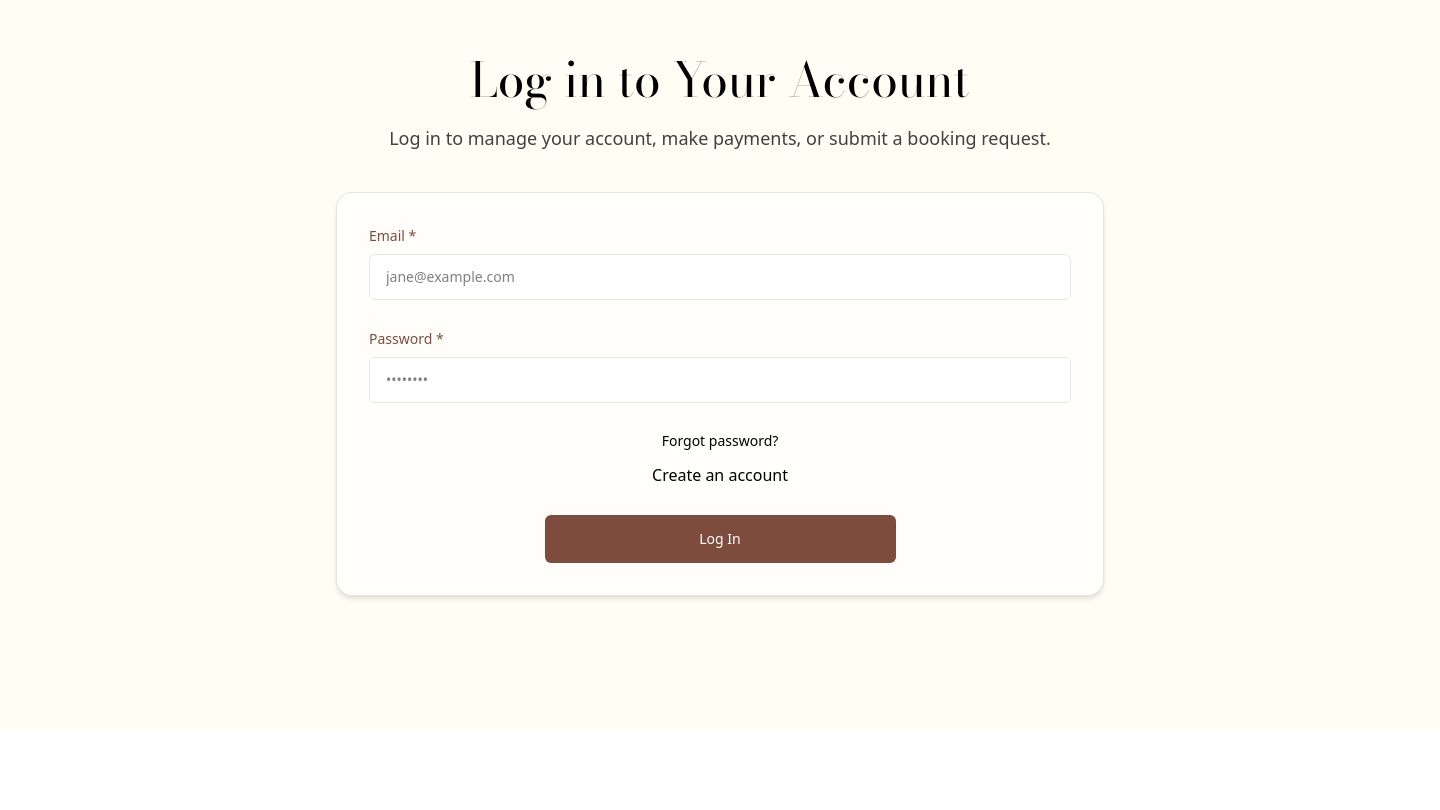
Test: Login › shows error on failed login
This screenshot has width=1440, height=810.
Type "test@test.com" into the field with placeholder "jane@example.com" at (720, 277), box [369,254,1071,300]
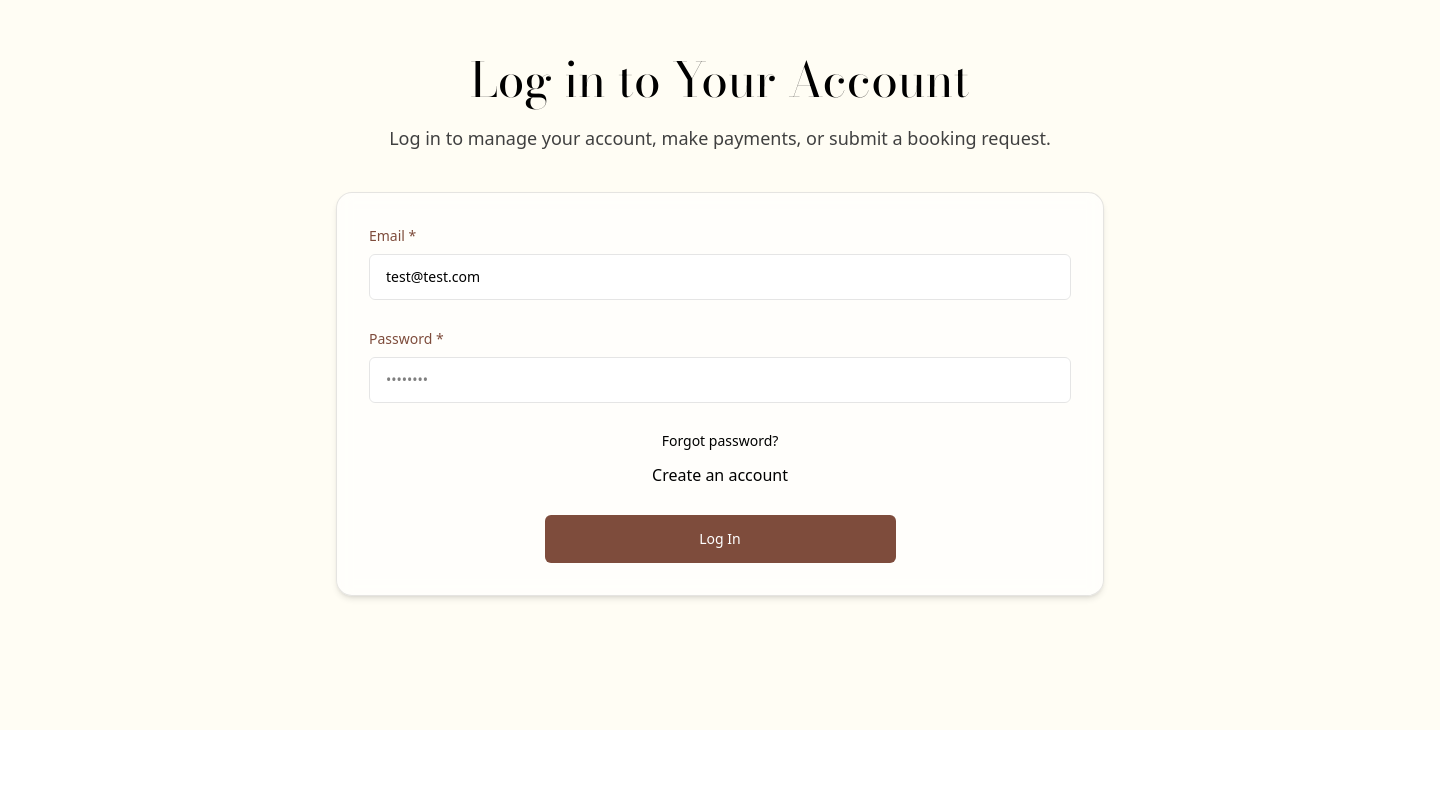
Type "wrongpassword" into the password field with placeholder "••••••••" at (720, 380), box [369,357,1071,403]
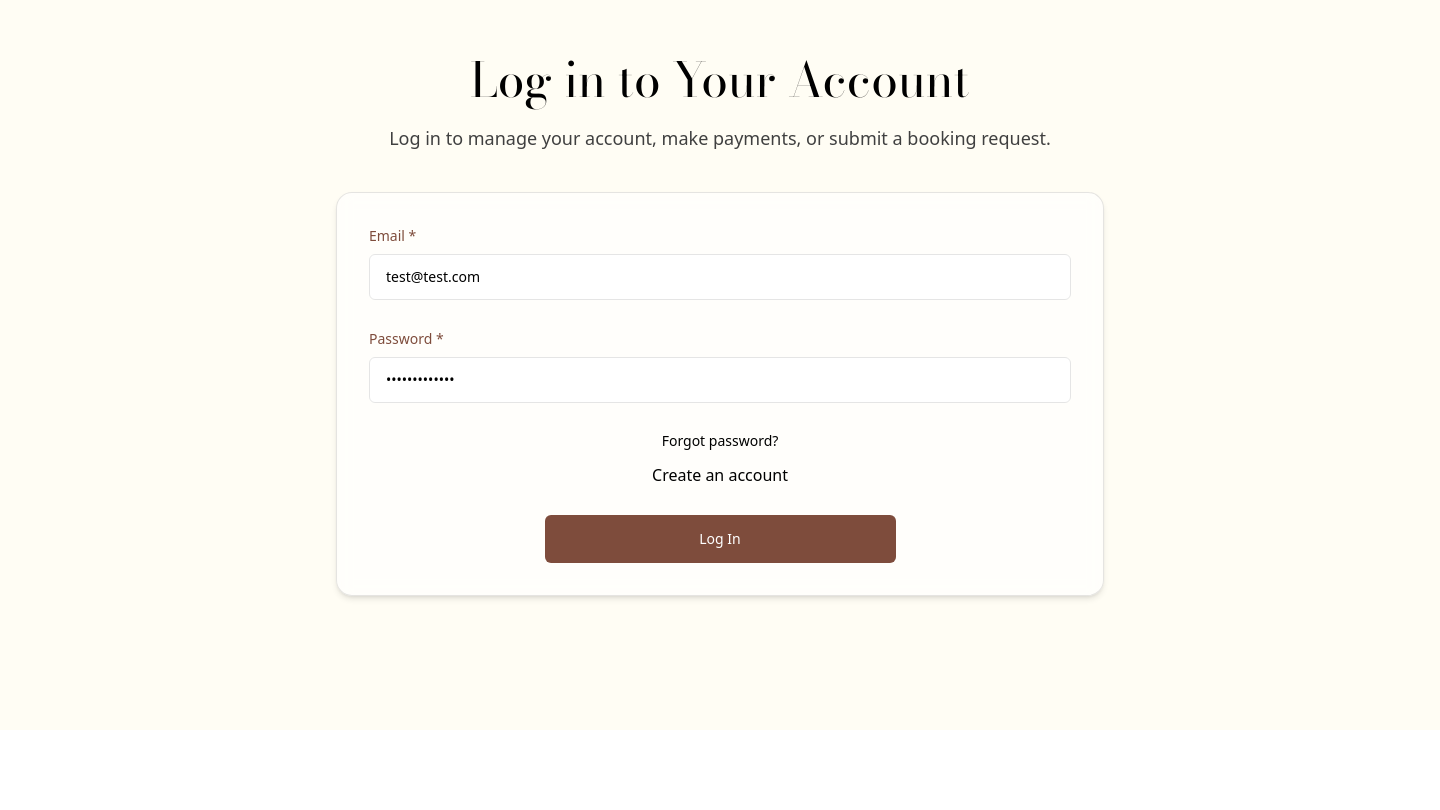
Click the button with aria-label "login-button" at (720, 539), box [544,515,896,563]
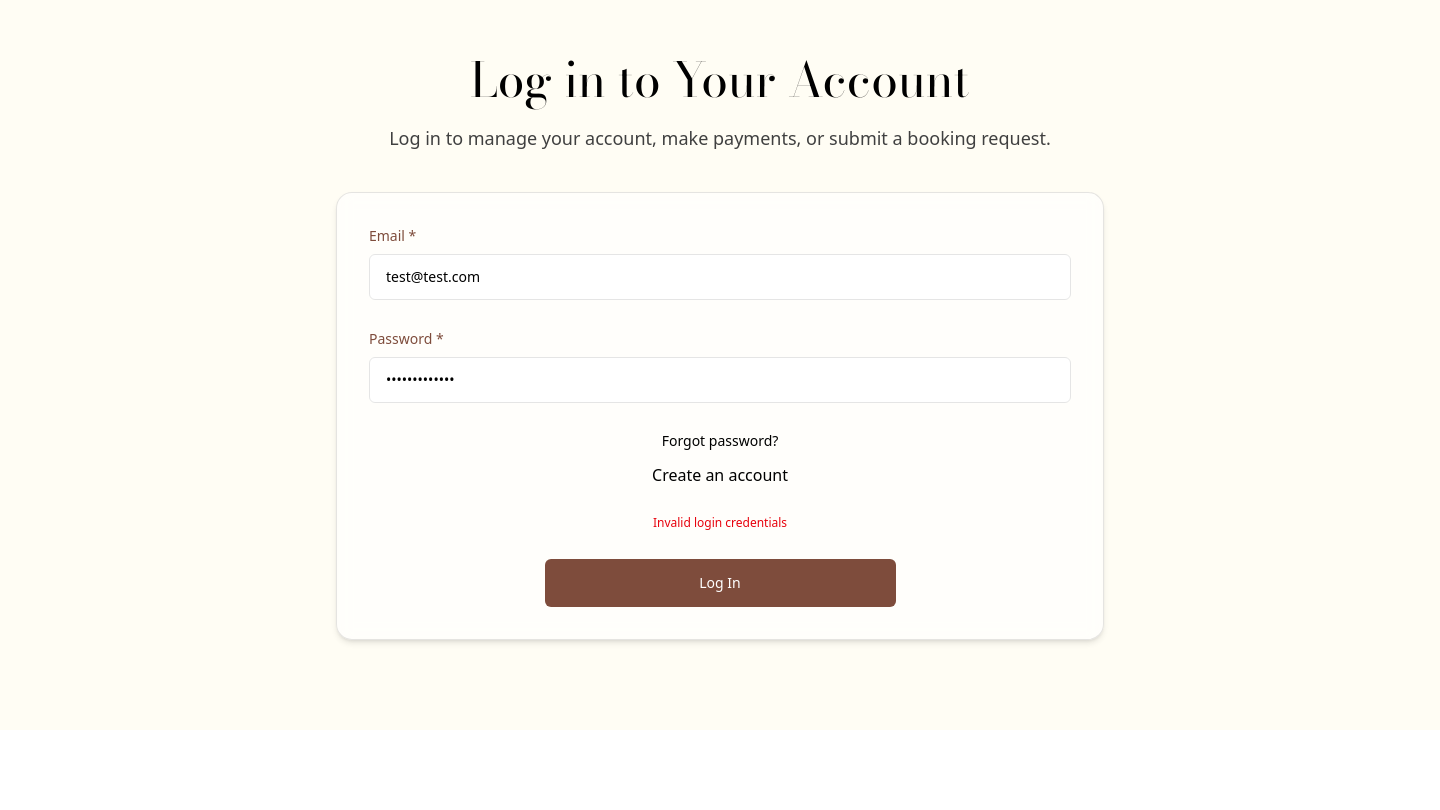
Expected: the text "Invalid login credentials" is shown, [653,514,787,531]
